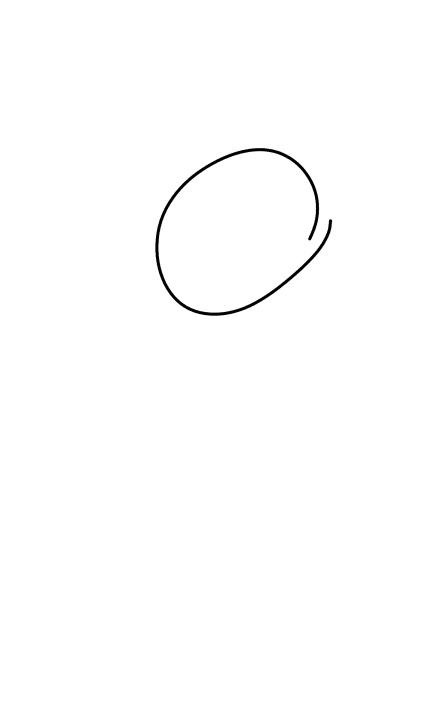Circle: (147, 143, 336, 324)
